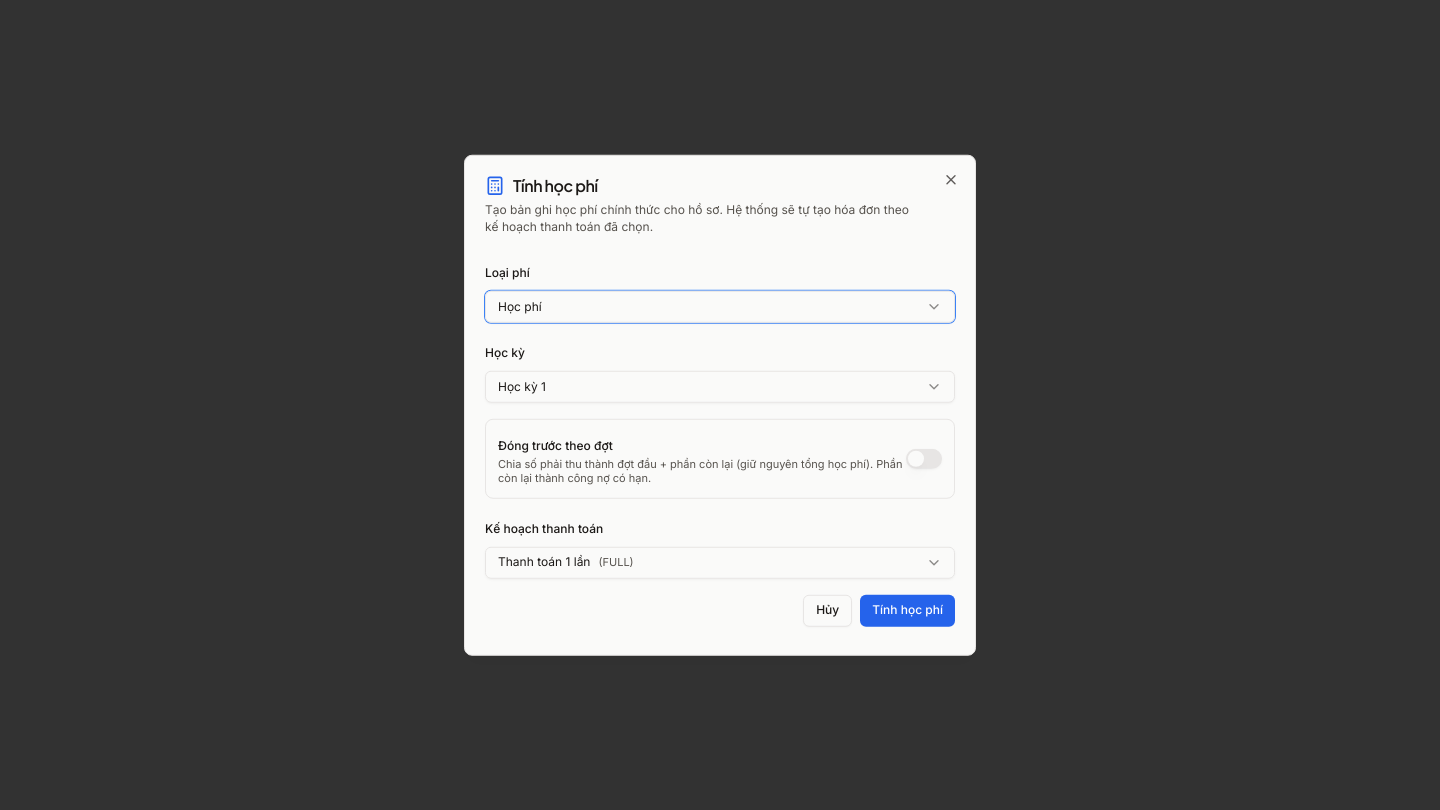
CalculateFeeDialog › down-payment toggle reveals amount + due-date inputs
The width and height of the screenshot is (1440, 810).
Expected: the field labelled "số đóng đợt đầu" is not shown
Click the switch named "đóng trước theo đợt".
click(924, 458)  # box left=906, top=448, right=942, bottom=468
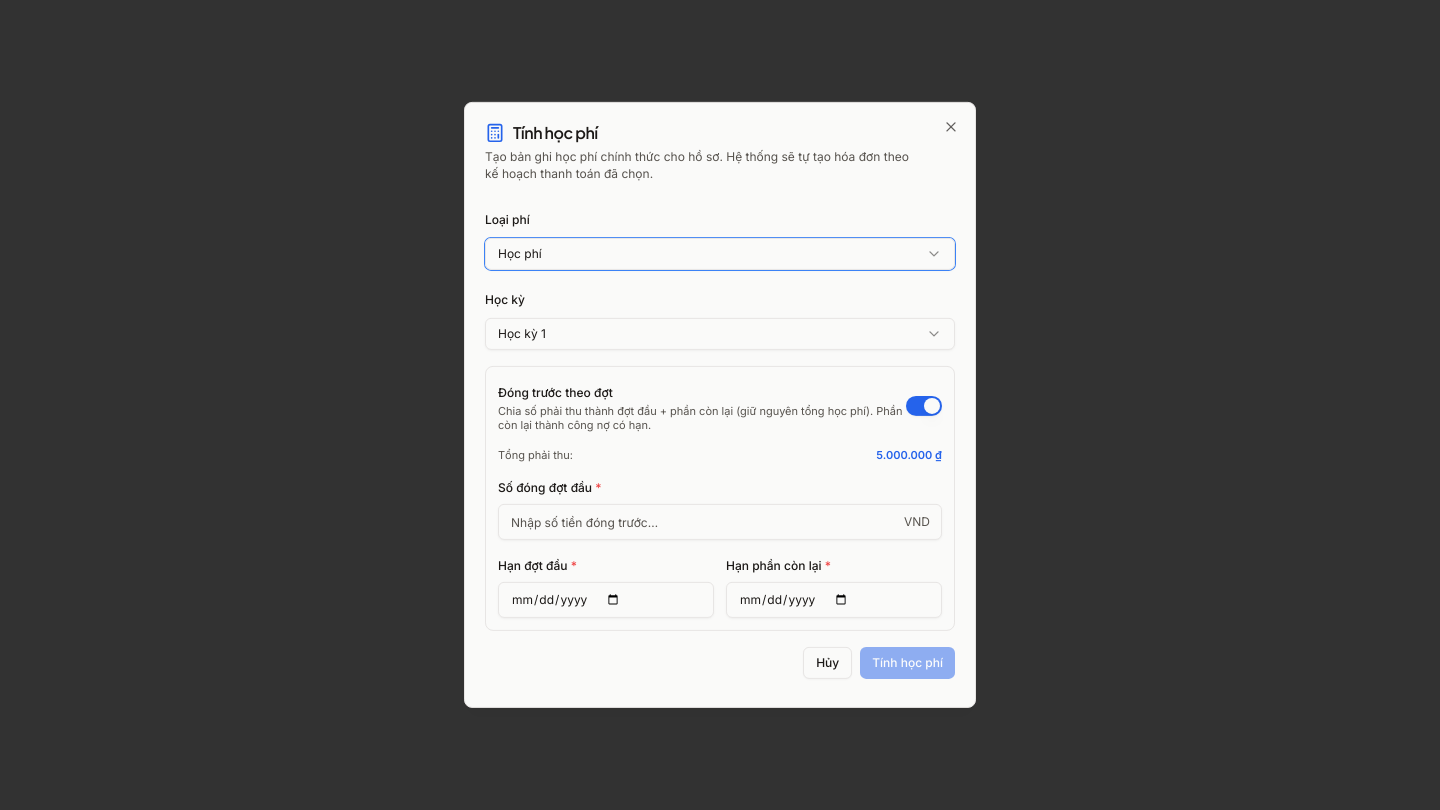
Expected: the field labelled "Số đóng đợt đầu *" is shown, left=498, top=504, right=942, bottom=540
Expected: the date field labelled "Hạn đợt đầu *" is shown, left=498, top=582, right=714, bottom=618
Expected: the date field labelled "Hạn phần còn lại *" is shown, left=726, top=582, right=942, bottom=618
